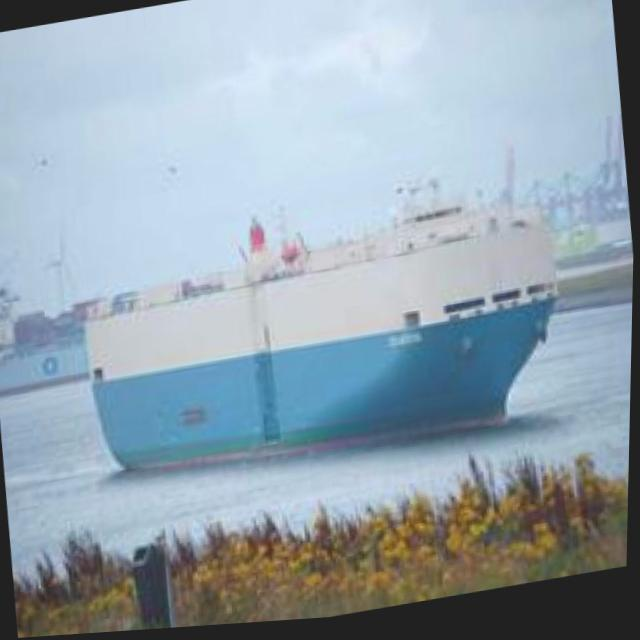ship2: (81, 179, 559, 476)
